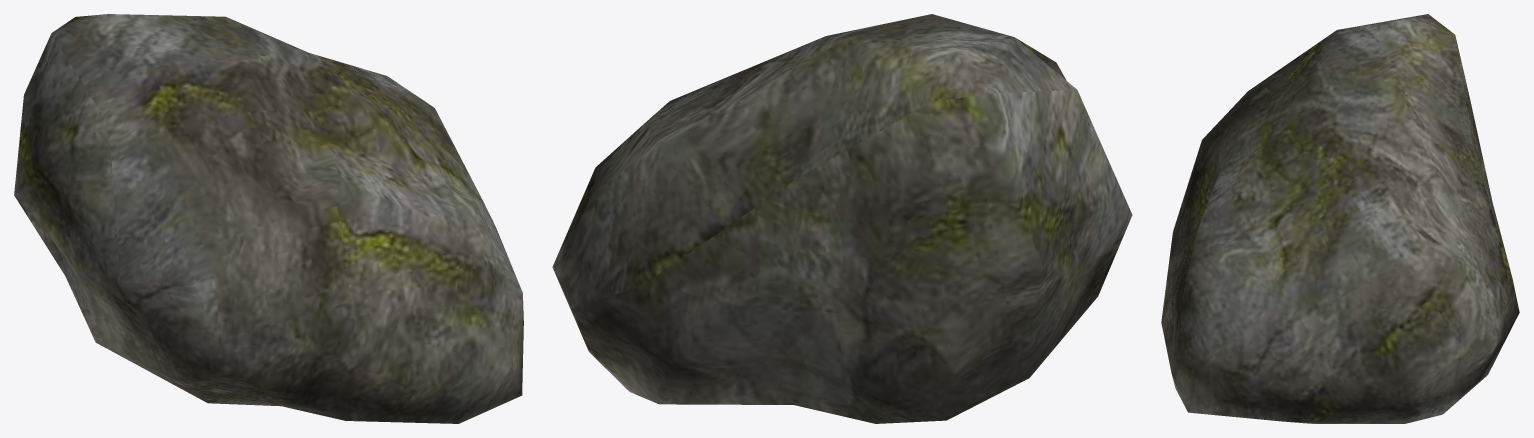
File: mesh_stone-cliff-c.fbx
3 renders of one model, left to right at view 1: azimuth 30°, elevation 25°; view 2: azimuth 150°, elevation 25°; view 3: azimuth 270°, elevation 25°, orthographic. The views are drawn at different scales.
Visible parts, largest first — view 1: stone-cliff-c; view 2: stone-cliff-c; view 3: stone-cliff-c.
Boxes of the visible parts, x1,y1,x2,y2 form: stone-cliff-c: (14, 14, 523, 423); stone-cliff-c: (552, 14, 1132, 423); stone-cliff-c: (1161, 14, 1519, 423).
Size of the model in its own units: 34.17 by 27.74 by 29.81.
Materials: 1 (1 with a texture image).
